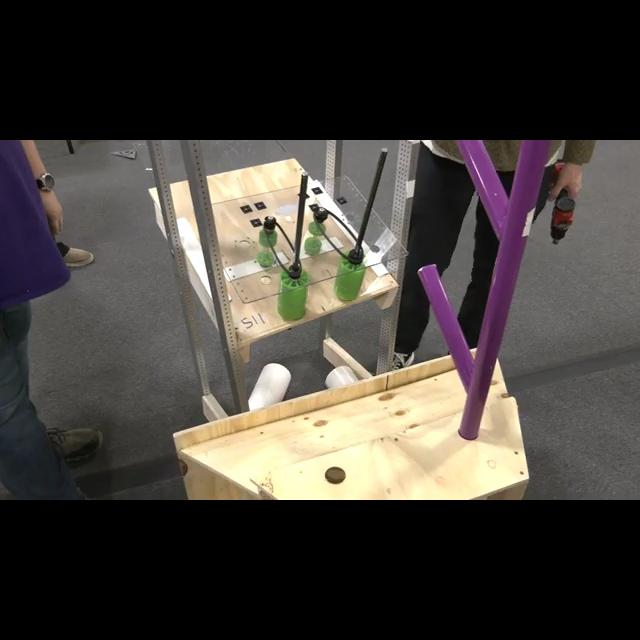CORAL: (246, 361, 290, 411), (326, 366, 358, 390)
